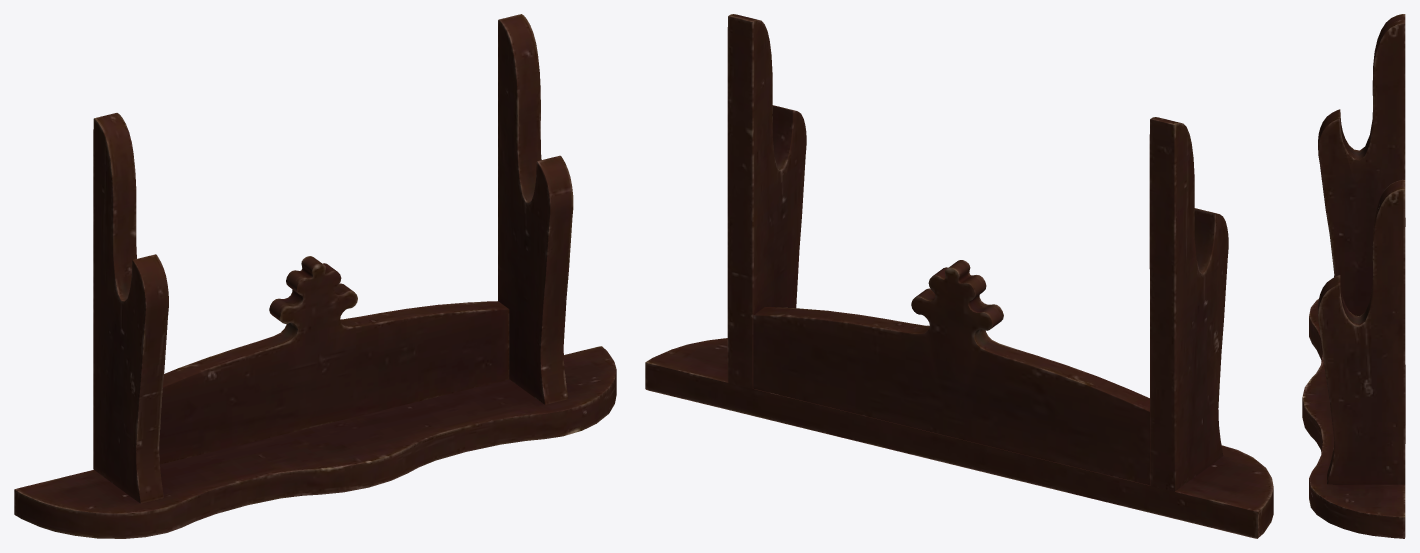
File: katana_stand_01.glb
3 views of the same model, side by side, from view 1: azimuth 30°, elevation 25°; view 2: azimuth 150°, elevation 25°; view 3: azimuth 270°, elevation 25° (orthographic). The views are drawn at different scales.
Visible parts, largest first — view 1: katana_stand_01; view 2: katana_stand_01; view 3: katana_stand_01.
Part boxes in pixels (x1=…): katana_stand_01: x1=14, y1=14, x2=616, y2=538; katana_stand_01: x1=645, y1=14, x2=1273, y2=538; katana_stand_01: x1=1302, y1=14, x2=1405, y2=538.
Bounding box in the file's own units: 0.2958 × 0.182 × 0.0535.
1 material, 1 textured.
